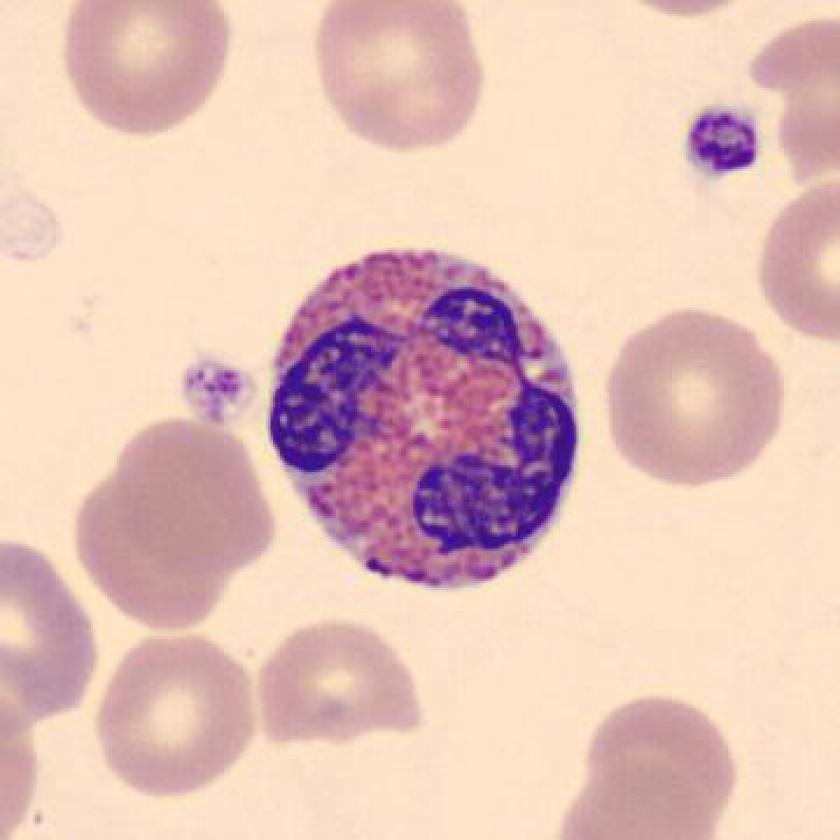eosinophil: (251, 235, 598, 607)
